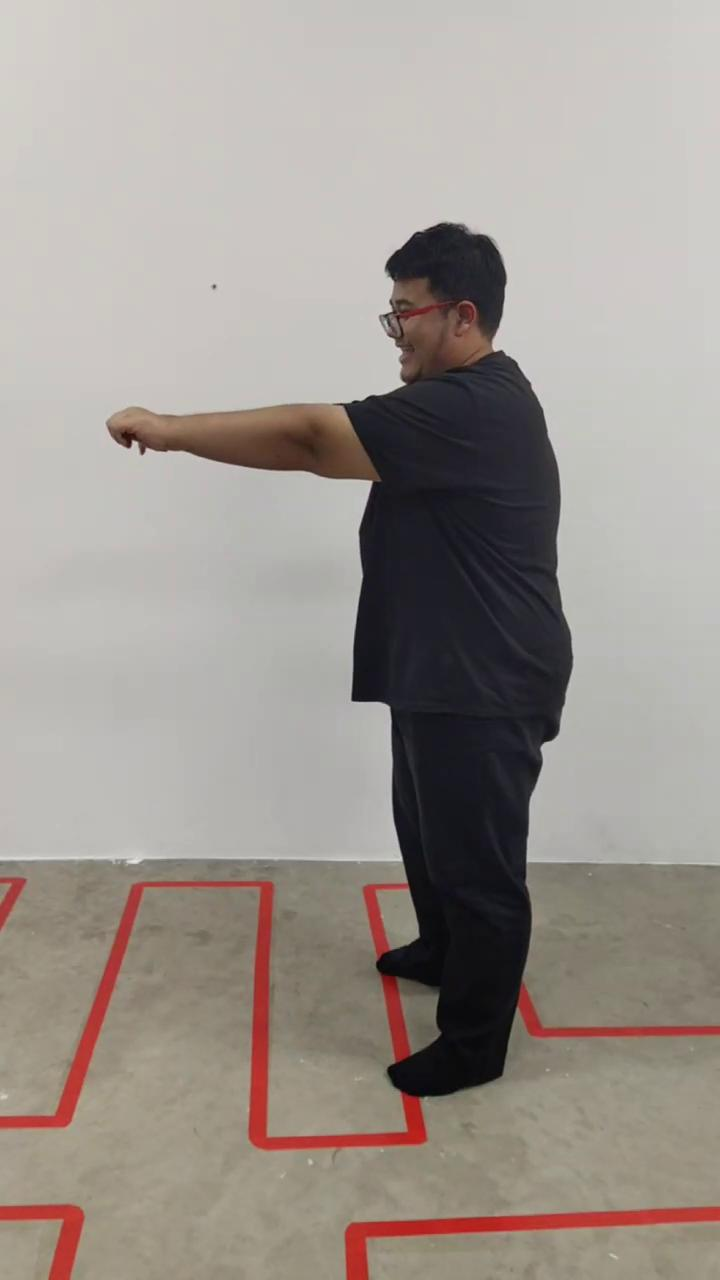squat up: (108, 221, 574, 1100)
